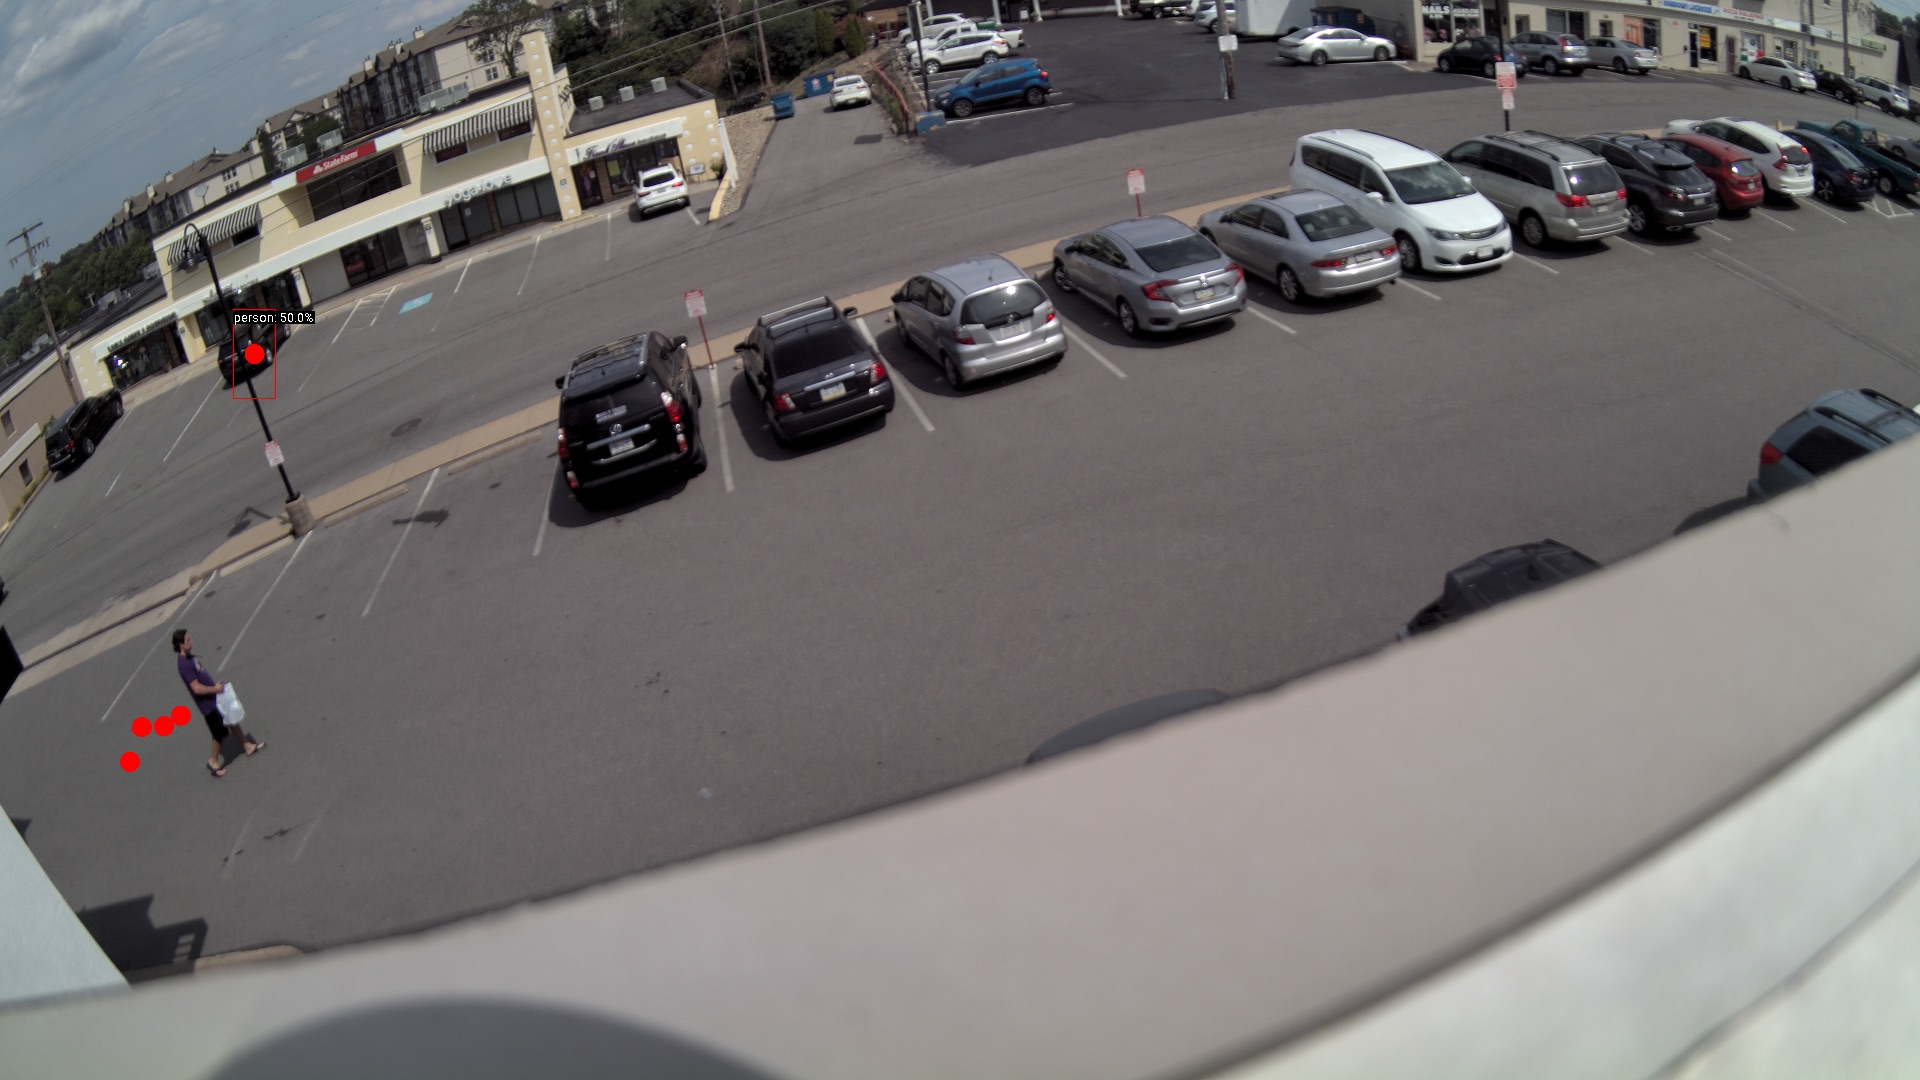person: (171, 625, 266, 779)
